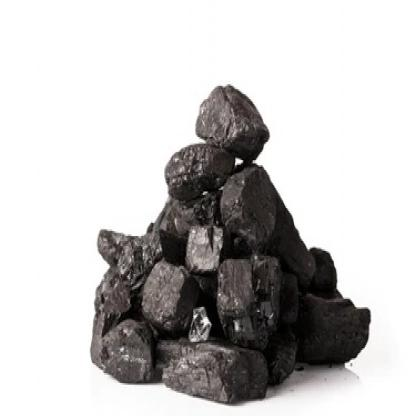Sedimentary_coal: (161, 335, 261, 414), (217, 164, 303, 248), (192, 76, 273, 162), (155, 137, 233, 193), (140, 247, 187, 328)
